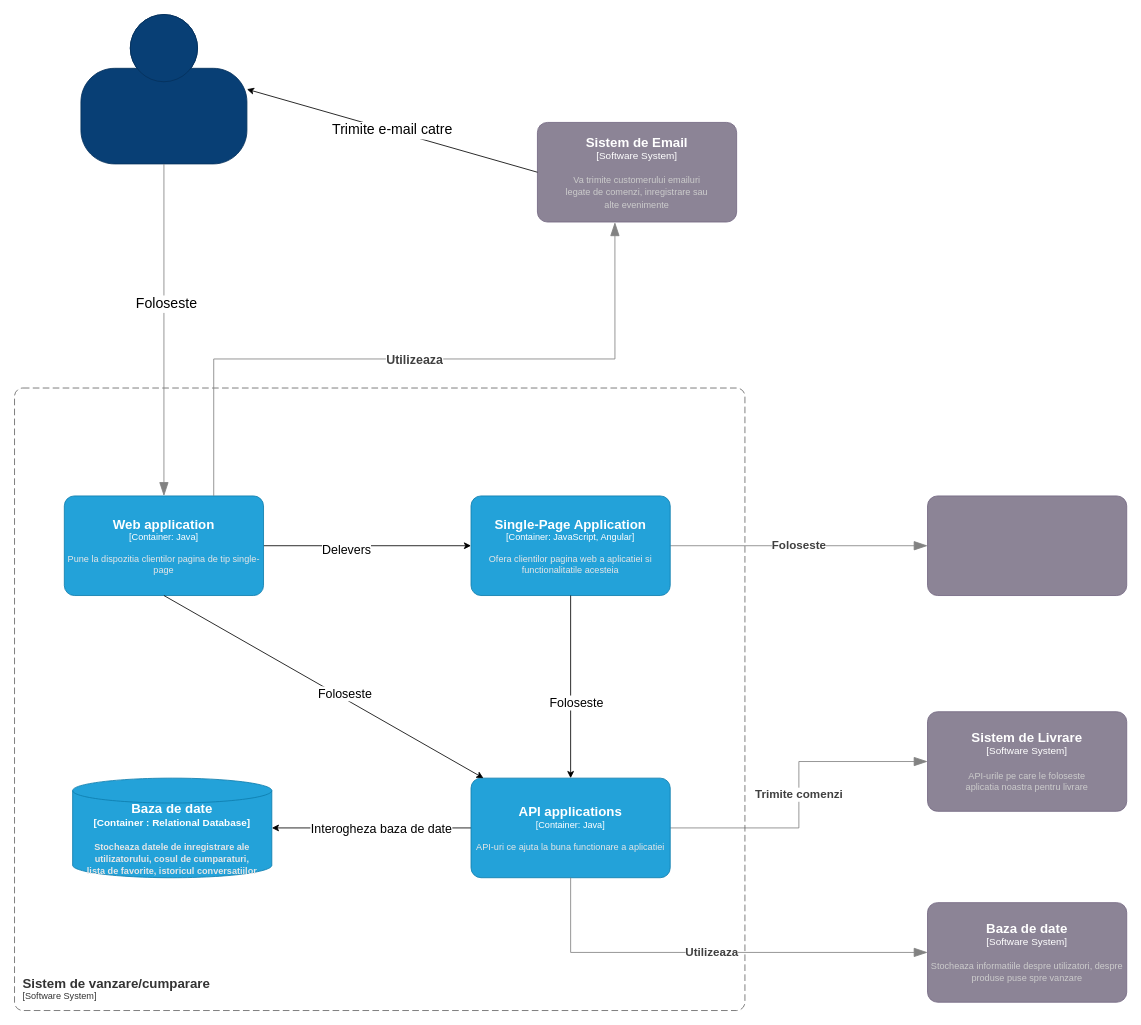
Image size: 1141x1025. Some labels were removed from this diagram. The shapes that lost their labels are listed below. From the top down, each one's centre as x and y in pixels, then its label:
At (x=163, y=89): "Customer [User] Un user ce are cont pe aplicatia de ecommerce".
At (x=1027, y=545): "Auth0 [Software System] Metoda de autentificare a unui customer".
